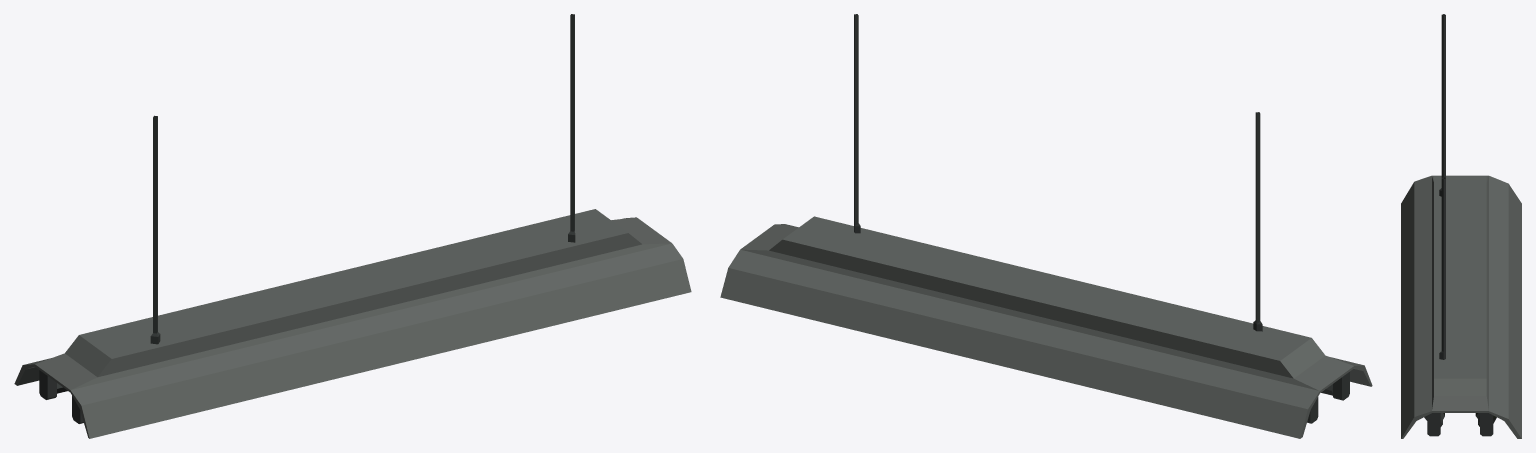
Rendered from light.dae.
3 views of the same model, side by side, from view 1: azimuth 30°, elevation 25°; view 2: azimuth 150°, elevation 25°; view 3: azimuth 270°, elevation 25° (orthographic). The views are drawn at different scales.
Visible parts, largest first — view 1: light; view 2: light; view 3: light.
Boxes of the visible parts, x1=… form: light: x1=14, y1=14, x2=691, y2=438; light: x1=720, y1=14, x2=1372, y2=438; light: x1=1401, y1=14, x2=1521, y2=438.
Size of the model in its own units: 1.34 by 0.2904 by 0.5966.
3 materials, 3 textured.
